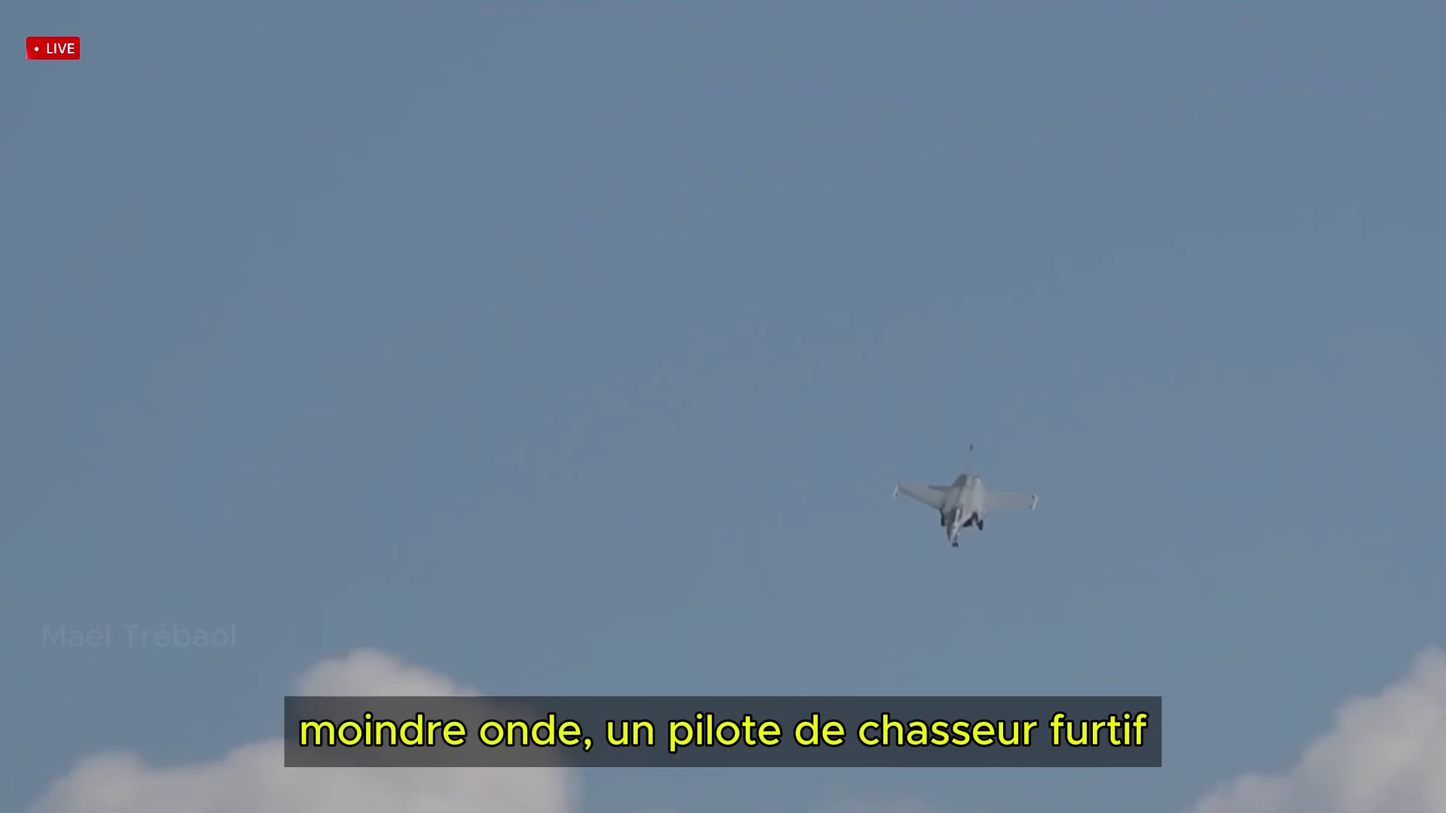Rafale: (894, 449, 1042, 550)
